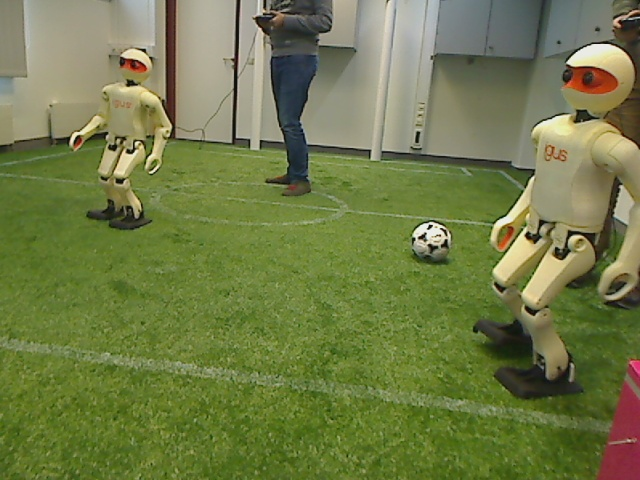ball: (406, 219, 457, 264)
robot: (472, 47, 640, 398), (69, 48, 169, 230)
